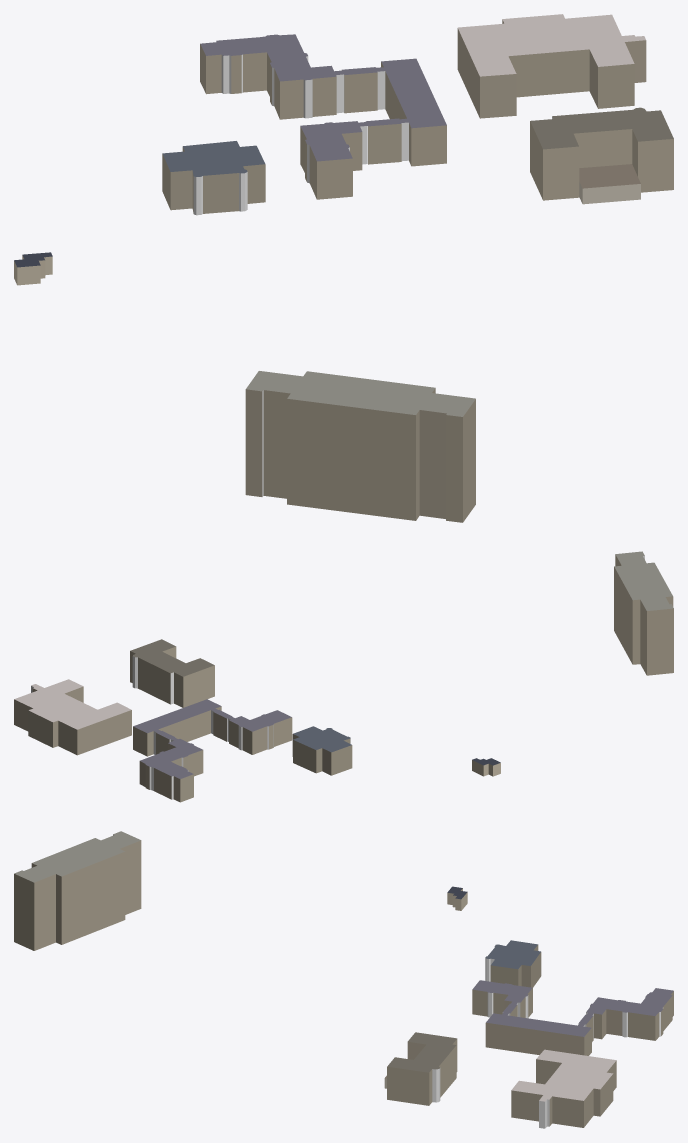
3 renders of one model, top to bottom at view 1: azimuth 30°, elevation 25°; view 2: azimuth 150°, elevation 25°; view 3: azimuth 270°, elevation 25°, orthographic. The views are drawn at different scales.
Parts seen in each view (by area): view 1: tuile; view 2: tuile; view 3: tuile.
Part boxes in pixels (box(x1,y1,x2,y2)): tuile: box(14, 14, 673, 522); tuile: box(14, 551, 673, 802); tuile: box(14, 831, 673, 1128).
Bounding box in the file's own units: 249 × 34.7 × 303.
